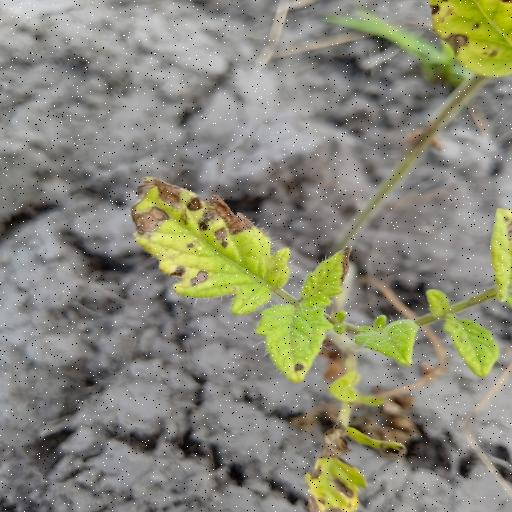Tomato_Brown_Spots: (128, 175, 298, 314)
